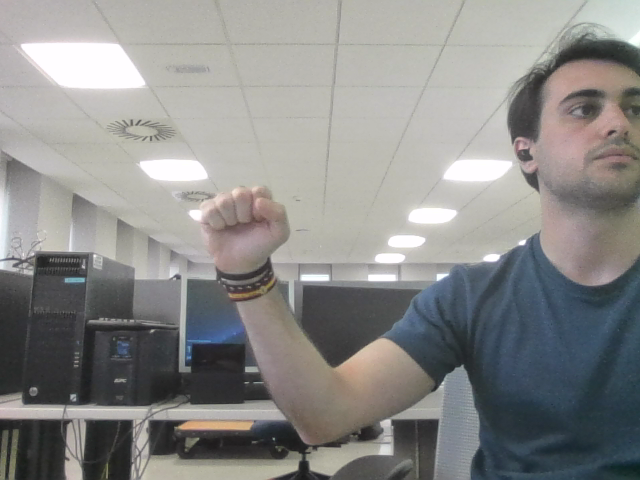Puño: (211, 193, 275, 253)
